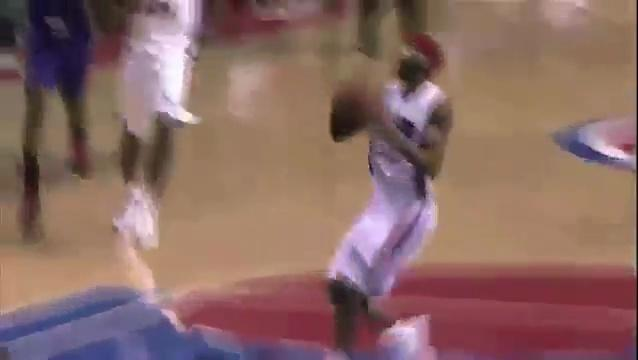Ball: (334, 80, 382, 122)
Person: (315, 33, 457, 360)
